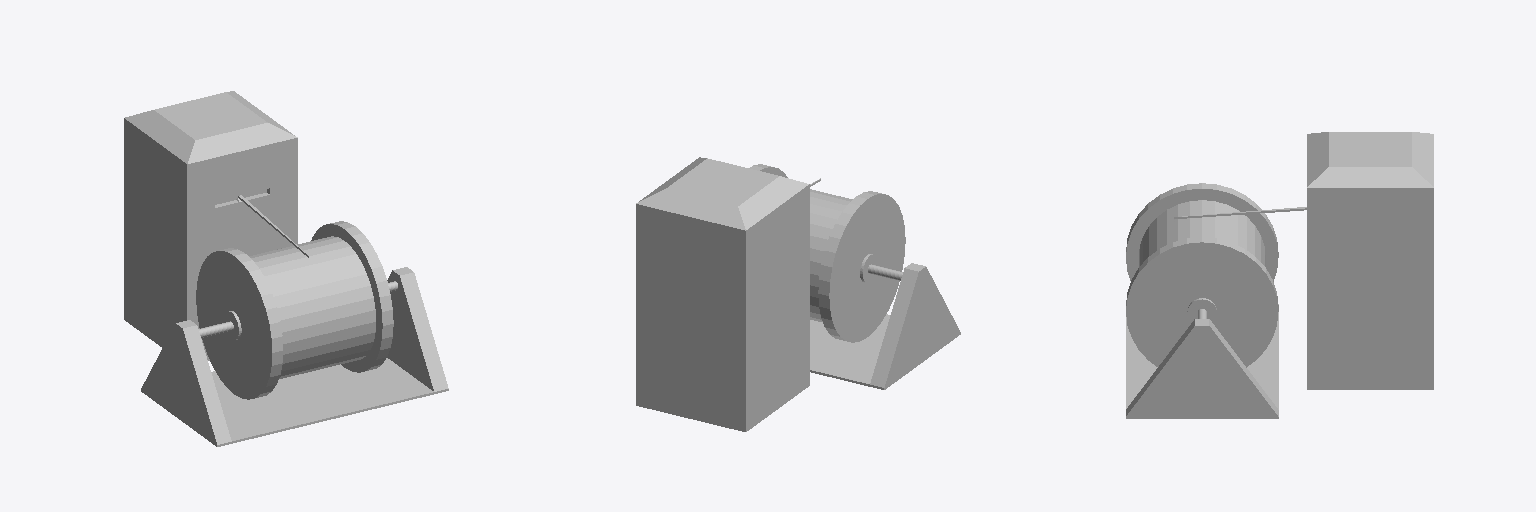
File: seismograph (1).obj
The picture shows the model from 3 angles: view 1: azimuth 30°, elevation 25°; view 2: azimuth 150°, elevation 25°; view 3: azimuth 270°, elevation 25°; orthographic projection.
Visible parts, largest first — view 1: seismograph_Cylinder; view 2: seismograph_Cylinder; view 3: seismograph_Cylinder.
Boxes of the visible parts, x1,y1,x2,y2 form: seismograph_Cylinder: [124, 91, 448, 446]; seismograph_Cylinder: [636, 157, 960, 431]; seismograph_Cylinder: [1126, 132, 1433, 418].
Size of the model in its own units: 1.05 by 0.925 by 1.21.